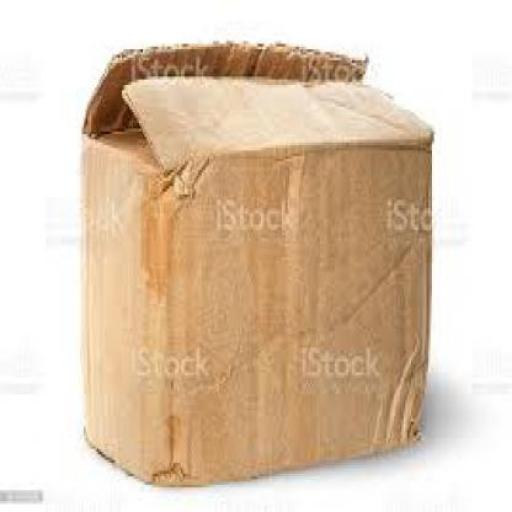cardboard: (78, 38, 432, 485), (164, 134, 432, 485)
